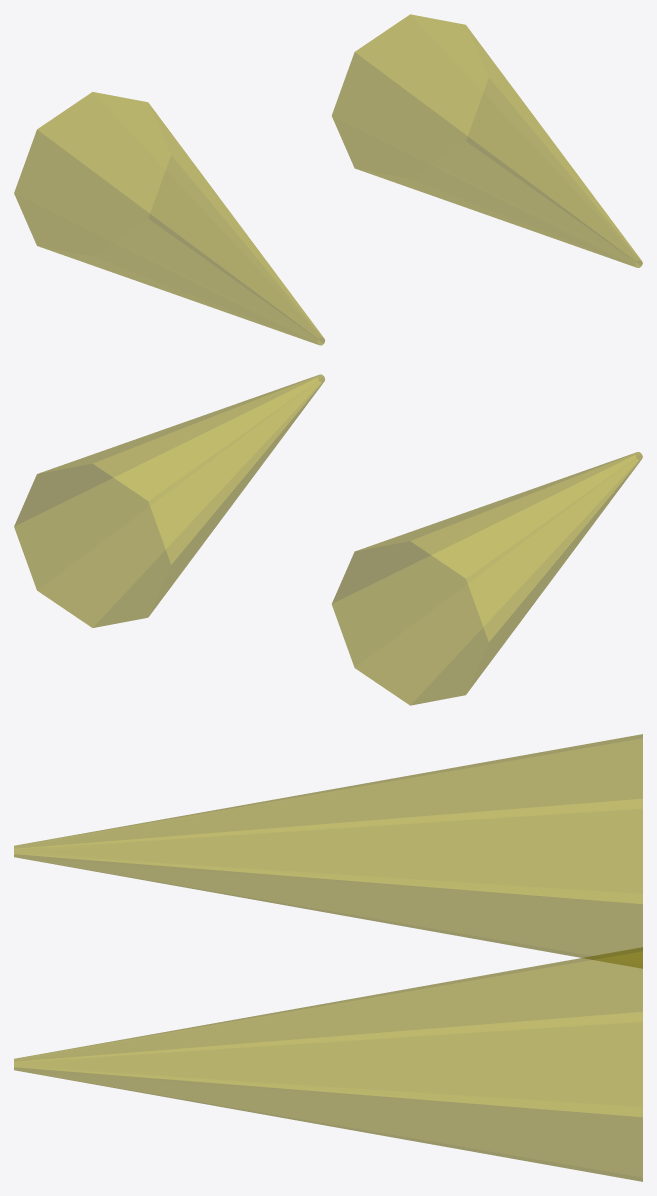
File: Bunner_F18_BlueAngelsNG.obj
3 views of the same model, one above another, from view 1: azimuth 30°, elevation 25°; view 2: azimuth 150°, elevation 25°; view 3: azimuth 270°, elevation 25° (orthographic). The views are drawn at different scales.
Parts seen in each view (by area): view 1: ShapeIndexedFaceSet.020_ShapeIndexedFaceSet.021, ShapeIndexedFaceSet.018_ShapeIndexedFaceSet.019, ShapeIndexedFaceSet.019_ShapeIndexedFaceSet.020, ShapeIndexedFaceSet.017_ShapeIndexedFaceSet.018; view 2: ShapeIndexedFaceSet.020_ShapeIndexedFaceSet.021, ShapeIndexedFaceSet.018_ShapeIndexedFaceSet.019, ShapeIndexedFaceSet.017_ShapeIndexedFaceSet.018, ShapeIndexedFaceSet.019_ShapeIndexedFaceSet.020; view 3: ShapeIndexedFaceSet.020_ShapeIndexedFaceSet.021, ShapeIndexedFaceSet.018_ShapeIndexedFaceSet.019.
Part boxes in pixels (bbox=[...]): ShapeIndexedFaceSet.020_ShapeIndexedFaceSet.021: bbox=[332, 14, 642, 267]; ShapeIndexedFaceSet.018_ShapeIndexedFaceSet.019: bbox=[14, 92, 324, 344]; ShapeIndexedFaceSet.019_ShapeIndexedFaceSet.020: bbox=[332, 14, 642, 267]; ShapeIndexedFaceSet.017_ShapeIndexedFaceSet.018: bbox=[14, 92, 324, 345]; ShapeIndexedFaceSet.020_ShapeIndexedFaceSet.021: bbox=[14, 374, 324, 627]; ShapeIndexedFaceSet.018_ShapeIndexedFaceSet.019: bbox=[332, 452, 642, 705]; ShapeIndexedFaceSet.017_ShapeIndexedFaceSet.018: bbox=[332, 452, 642, 705]; ShapeIndexedFaceSet.019_ShapeIndexedFaceSet.020: bbox=[14, 375, 324, 627]; ShapeIndexedFaceSet.020_ShapeIndexedFaceSet.021: bbox=[14, 947, 642, 1181]; ShapeIndexedFaceSet.018_ShapeIndexedFaceSet.019: bbox=[14, 734, 642, 968].
Size of the model in its own units: 15.7 by 5.2 by 13.1.
